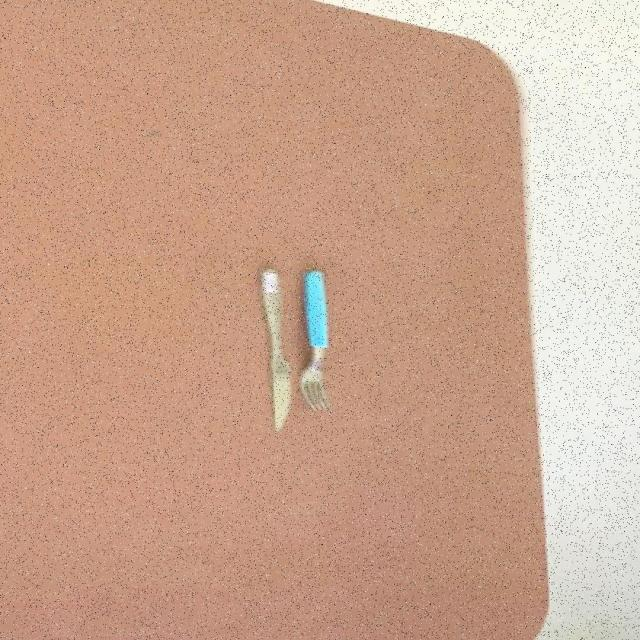Fork: (257, 265, 291, 431), (298, 267, 330, 411)
Knife: (257, 265, 291, 431)
